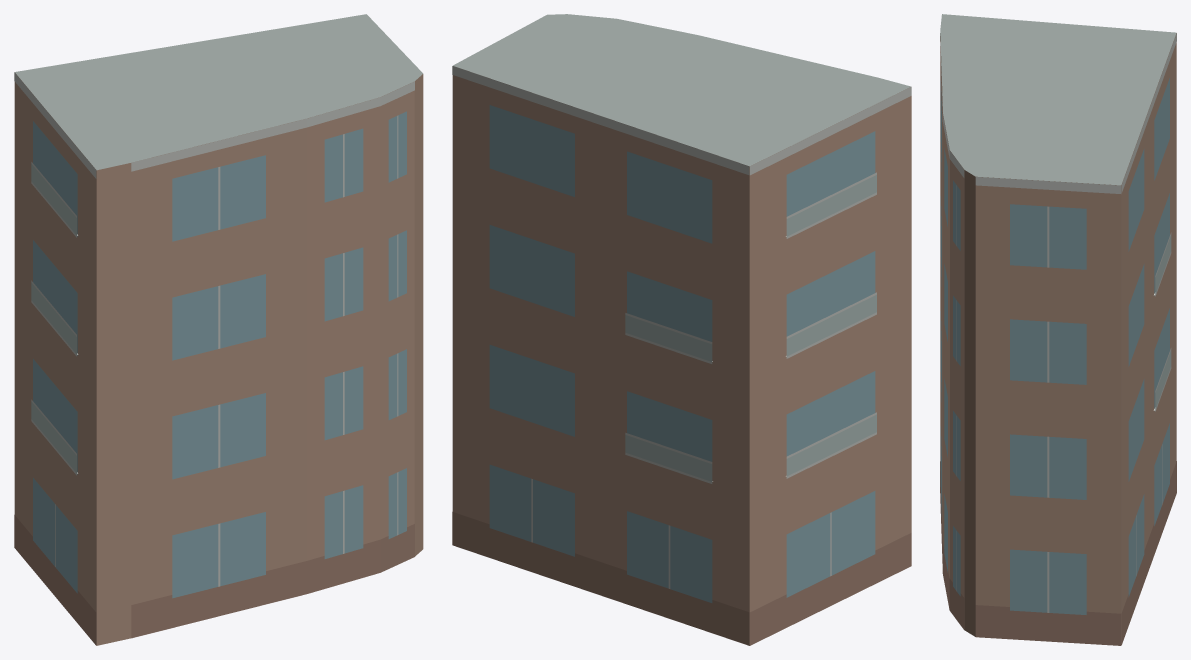
File: survey-upis-32464437.glb
The picture shows the model from 3 angles, left to right: view 1: azimuth 30°, elevation 25°; view 2: azimuth 150°, elevation 25°; view 3: azimuth 270°, elevation 25°; orthographic projection. The views are drawn at different scales.
Parts seen in each view (by area): view 1: survey-upis-32464437.tmp; view 2: survey-upis-32464437.tmp; view 3: survey-upis-32464437.tmp.
Boxes of the visible parts, bbox=[...] form: survey-upis-32464437.tmp: bbox=[14, 14, 423, 645]; survey-upis-32464437.tmp: bbox=[452, 14, 911, 645]; survey-upis-32464437.tmp: bbox=[940, 14, 1176, 645].
Size of the model in its own units: 10.23 by 12.8 by 5.97.
